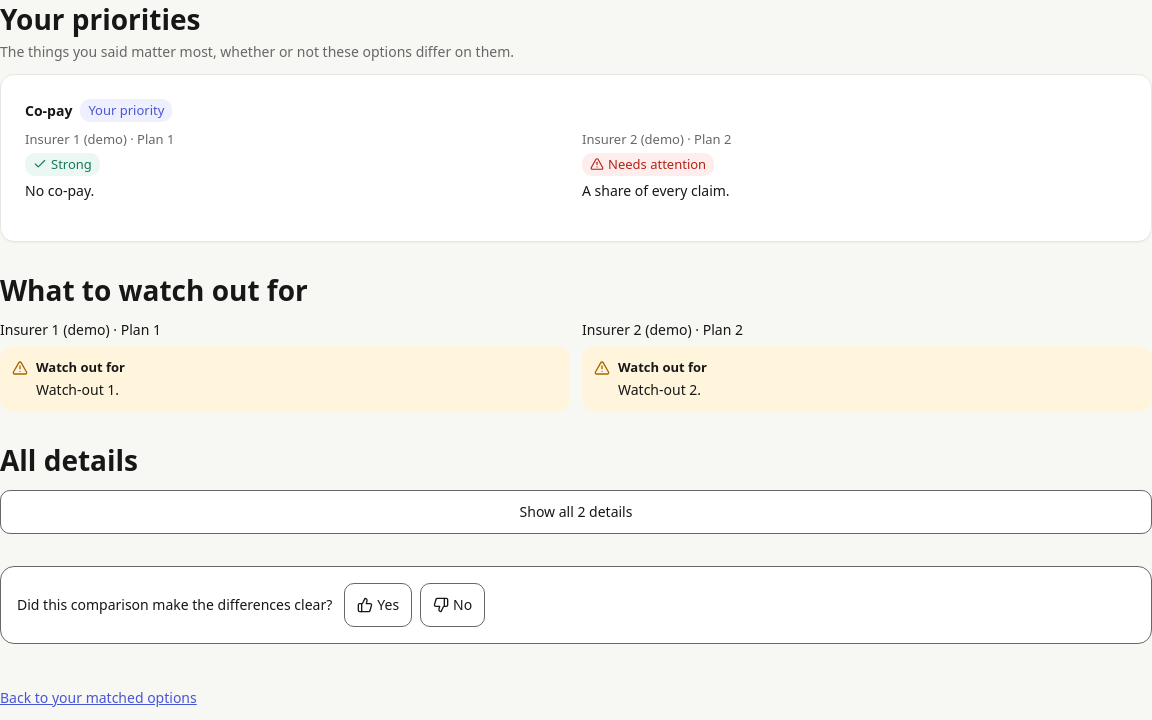
Test: ComparisonView › keeps all details behind a disclosure to avoid a feature matrix
(page scrolled)
Expected: the text "Budget" is not shown
Click the button "Show all 2 details".
click(576, 512)  # box [0,490,1151,534]
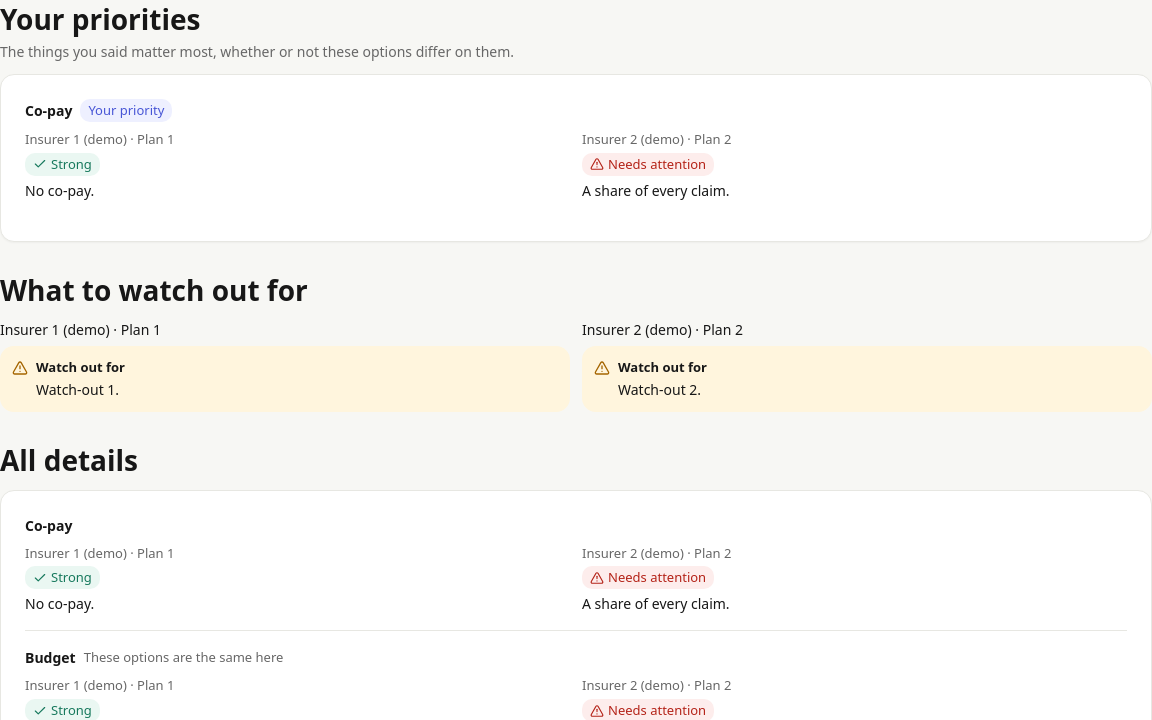
Expected: the heading "Budget" is shown, [25,647,76,668]
